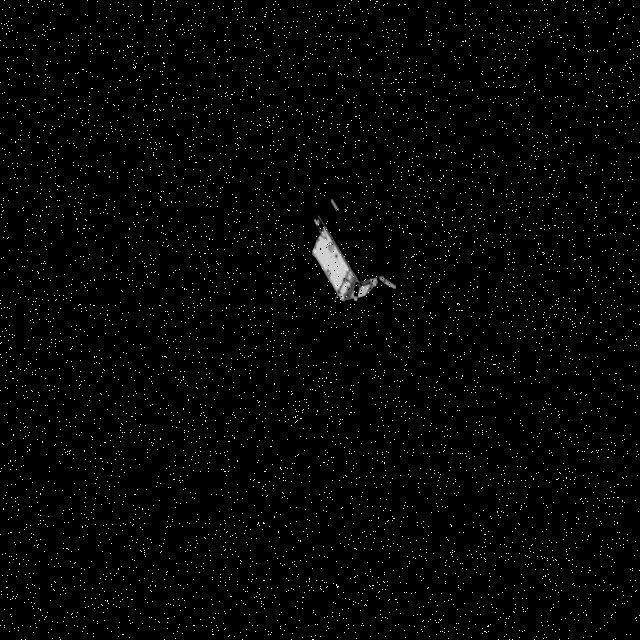medium_debris: (288, 192, 400, 306)
